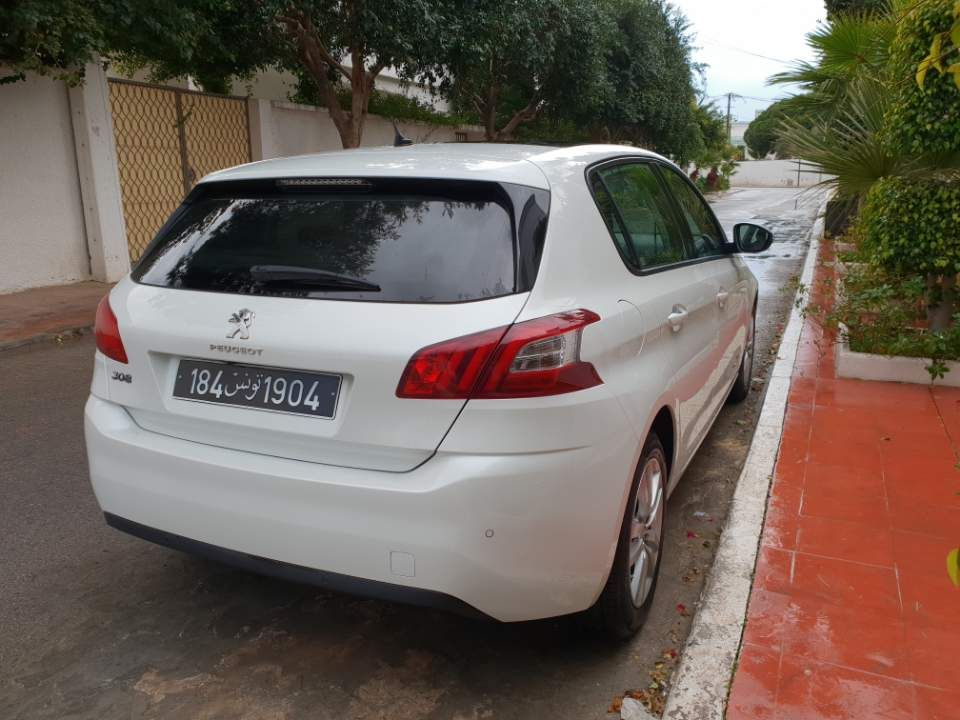LP: (171, 357, 347, 424)
